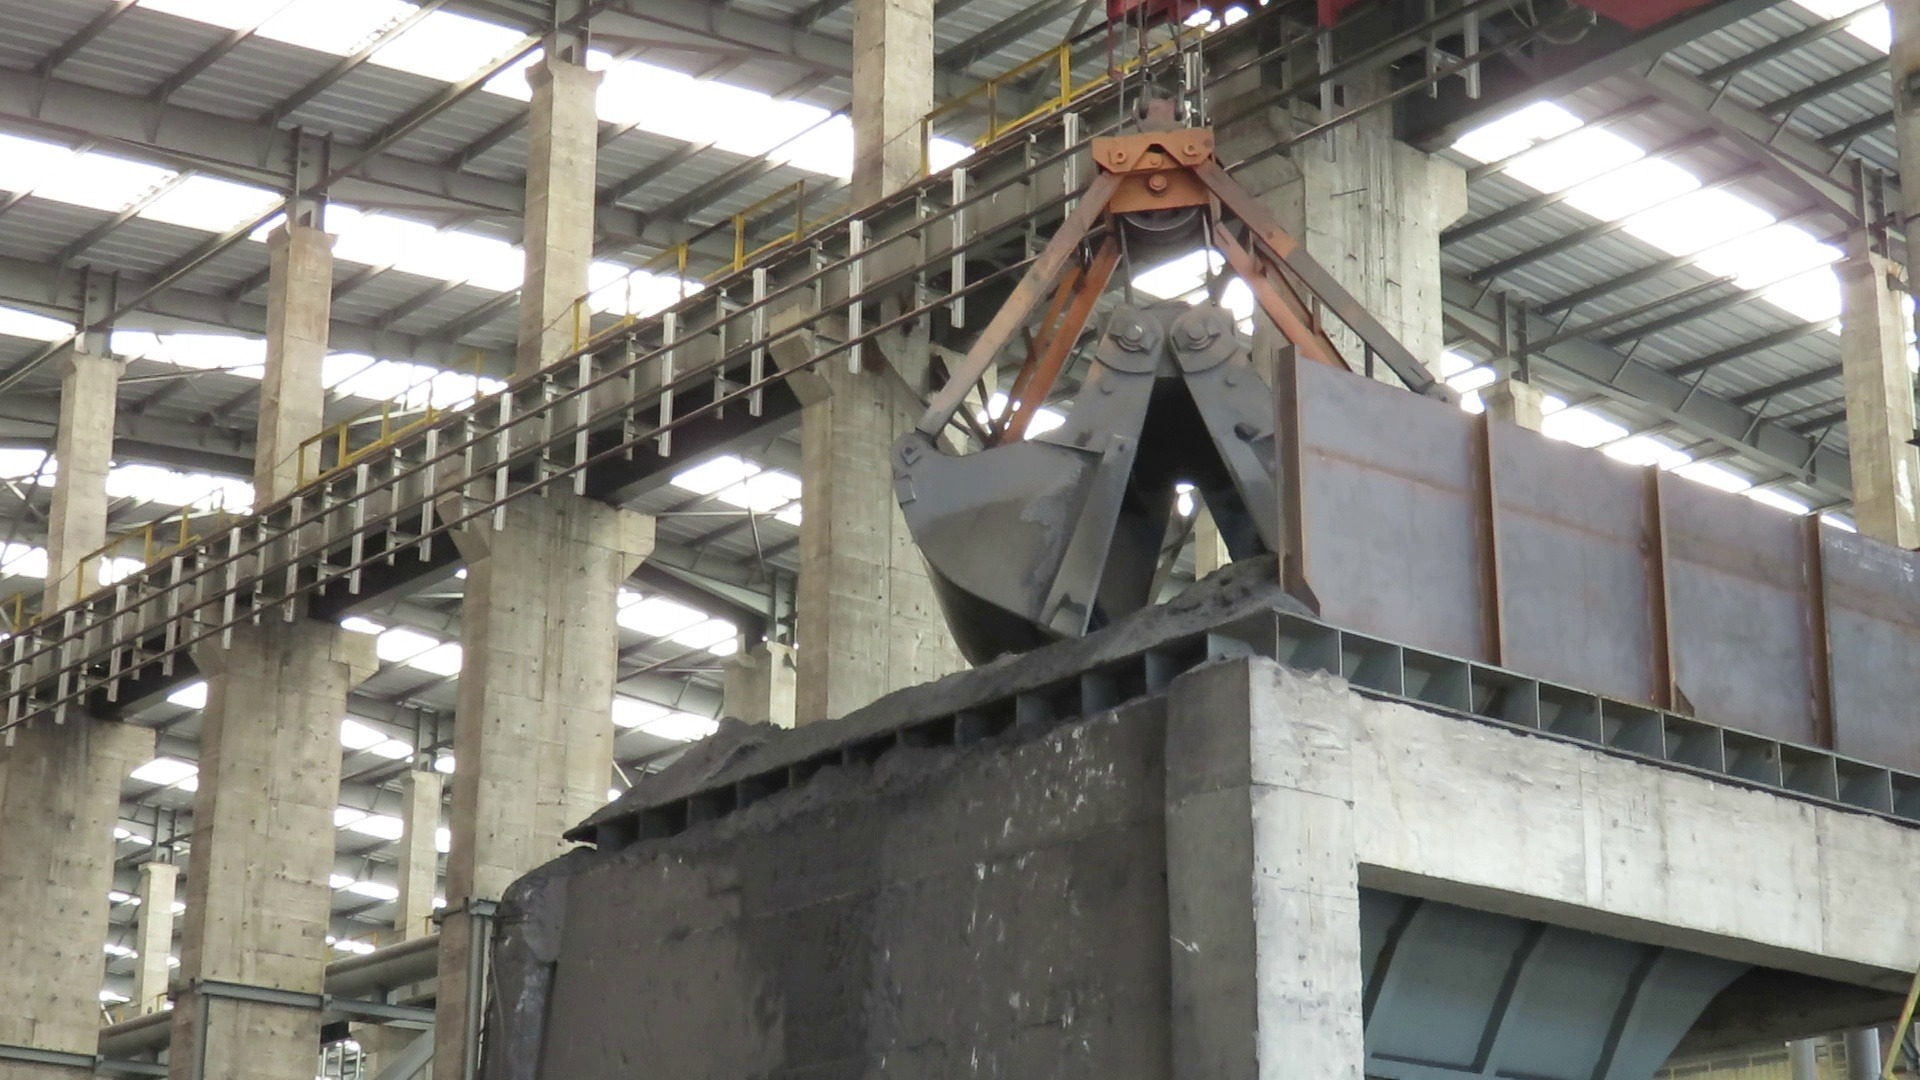grab: (876, 73, 1480, 679)
